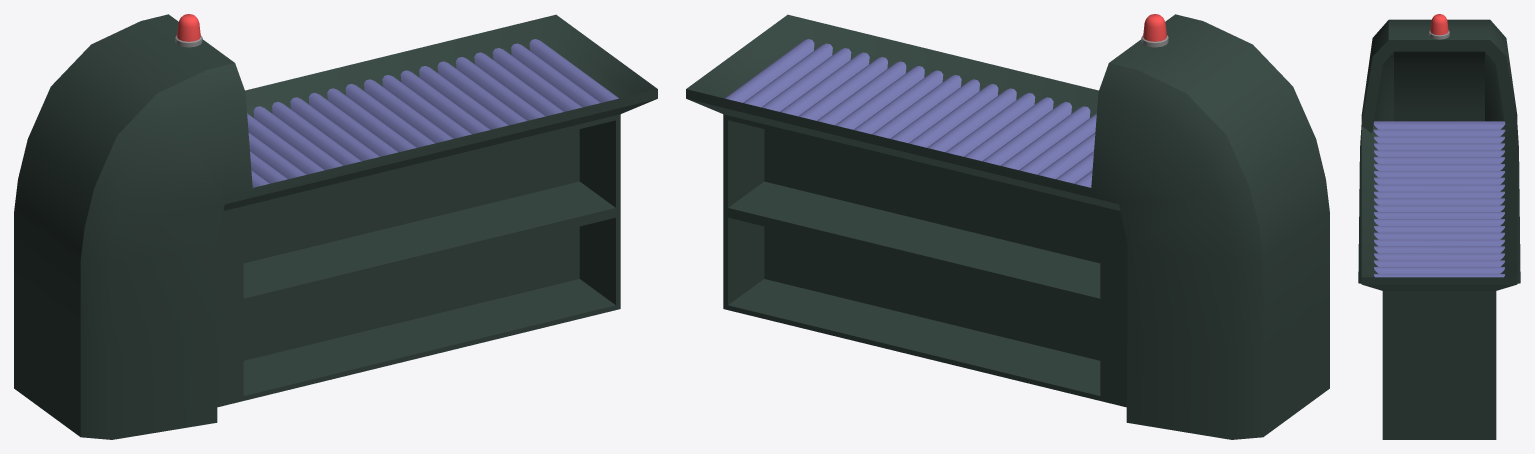
The model's file is Table1.FBX.
3 views of the same model, side by side, from view 1: azimuth 30°, elevation 25°; view 2: azimuth 150°, elevation 25°; view 3: azimuth 270°, elevation 25° (orthographic). The views are drawn at different scales.
Parts seen in each view (by area): view 1: Box001, Cylinder004, Cylinder006, Cylinder012, Cylinder018, Cylinder003, Cylinder009, Cylinder013, Cylinder002, Cylinder008, Cylinder010, Cylinder011 (+8 smaller); view 2: Box001, Cylinder003, Cylinder004, Cylinder006, Cylinder012, Cylinder018, Cylinder009, Cylinder013, Cylinder002, Cylinder008, Cylinder010, Cylinder011 (+8 smaller); view 3: Box001, Cylinder026, Cylinder027, Cylinder005, Cylinder009, Cylinder013, Cylinder014, Cylinder019, Cylinder004, Cylinder015, Cylinder012, Cylinder021 (+14 smaller).
Boxes of the visible parts, x1,y1,x2,y2 form: Box001: [14, 14, 657, 439]; Cylinder004: [456, 57, 545, 120]; Cylinder006: [474, 52, 563, 116]; Cylinder012: [327, 88, 416, 152]; Cylinder018: [253, 106, 342, 170]; Cylinder003: [492, 48, 582, 111]; Cylinder009: [419, 66, 508, 129]; Cylinder013: [290, 97, 379, 161]; Cylinder002: [511, 43, 600, 107]; Cylinder008: [382, 75, 471, 138]; Cylinder010: [364, 79, 453, 143]; Cylinder011: [345, 84, 434, 147]; Box001: [686, 14, 1329, 439]; Cylinder003: [761, 48, 851, 111]; Cylinder004: [798, 57, 887, 120]; Cylinder006: [780, 52, 869, 116]; Cylinder012: [927, 88, 1016, 152]; Cylinder018: [1001, 106, 1090, 170]; Cylinder009: [835, 66, 924, 129]; Cylinder013: [964, 97, 1053, 161]; Cylinder002: [743, 43, 832, 107]; Cylinder008: [872, 75, 961, 138]; Cylinder010: [890, 79, 979, 143]; Cylinder011: [909, 84, 998, 147]; Box001: [1358, 19, 1520, 439]; Cylinder026: [1373, 122, 1505, 129]; Cylinder027: [1373, 129, 1505, 136]; Cylinder005: [1374, 239, 1504, 246]; Cylinder009: [1374, 232, 1504, 239]; Cylinder013: [1374, 184, 1504, 191]; Cylinder014: [1374, 177, 1504, 184]; Cylinder019: [1374, 136, 1504, 143]; Cylinder004: [1374, 246, 1504, 253]; Cylinder015: [1374, 191, 1504, 198]; Cylinder012: [1374, 198, 1504, 205]; Cylinder021: [1374, 143, 1504, 150].
Bounding box in the file's own units: 120 × 74 × 39.3.
